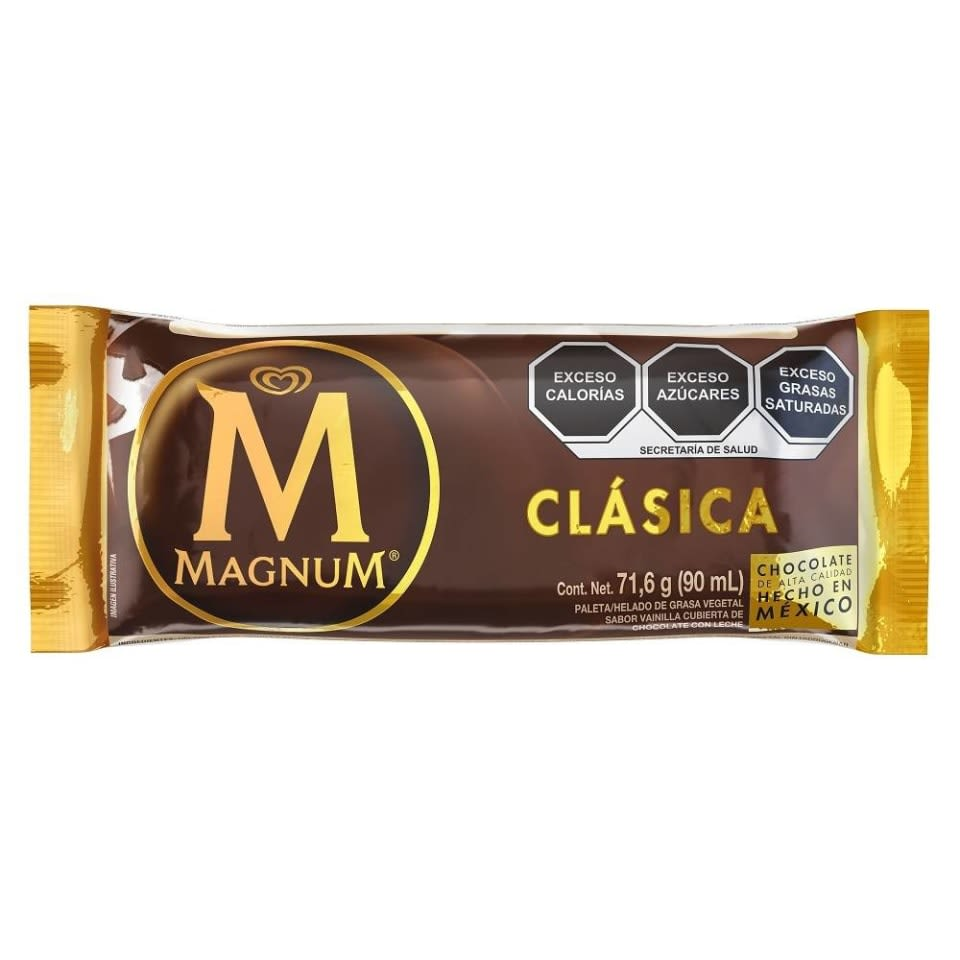Magnum clasica: (25, 286, 941, 671)
